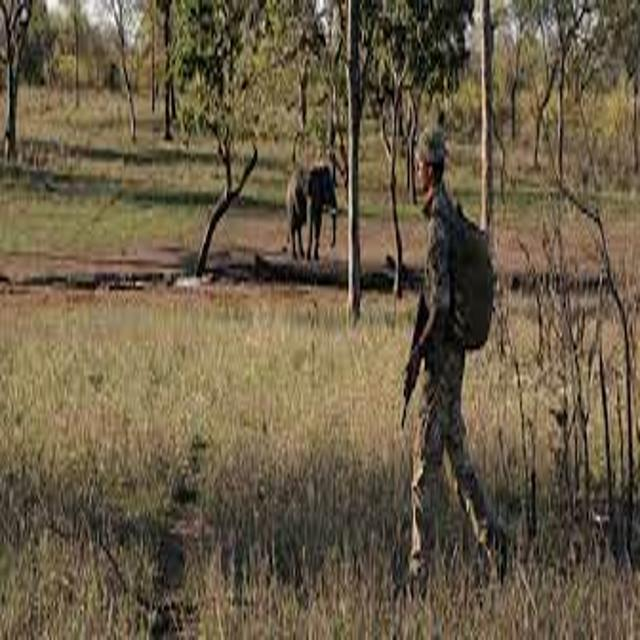bag: (430, 189, 515, 377)
elephant: (254, 140, 365, 275)
gun: (363, 270, 457, 463)
ranger: (340, 111, 593, 609)
